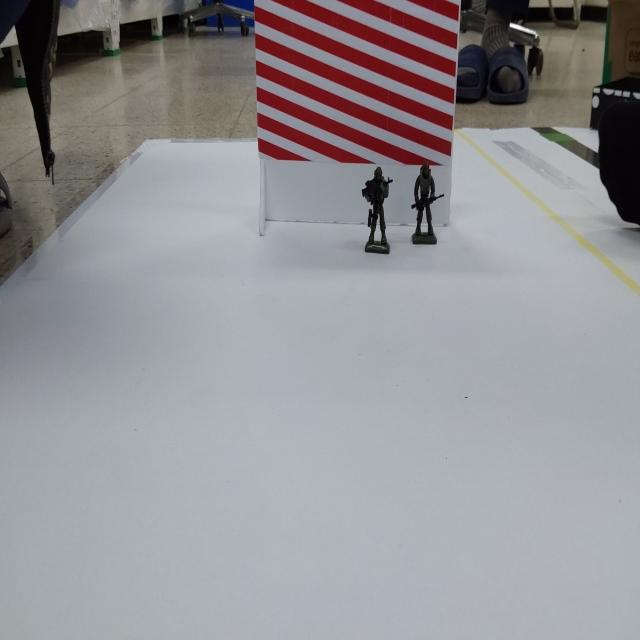enem: (362, 166, 391, 253), (411, 161, 437, 244)
